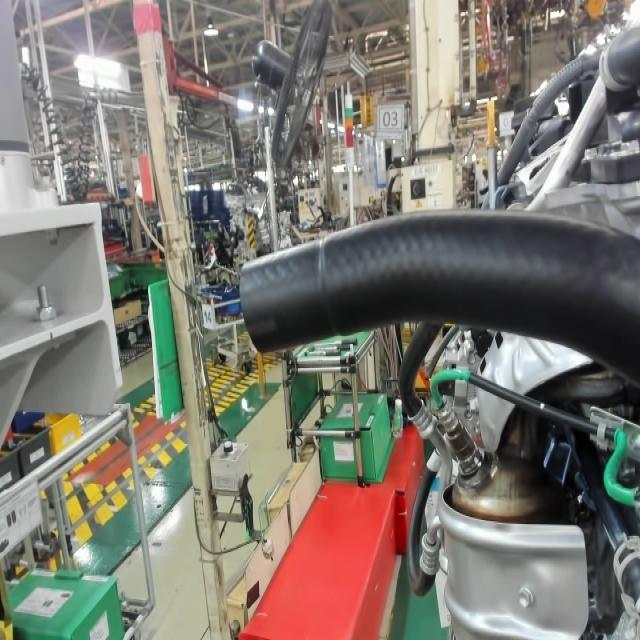Hose Radiator-PC: (242, 312, 280, 344)
